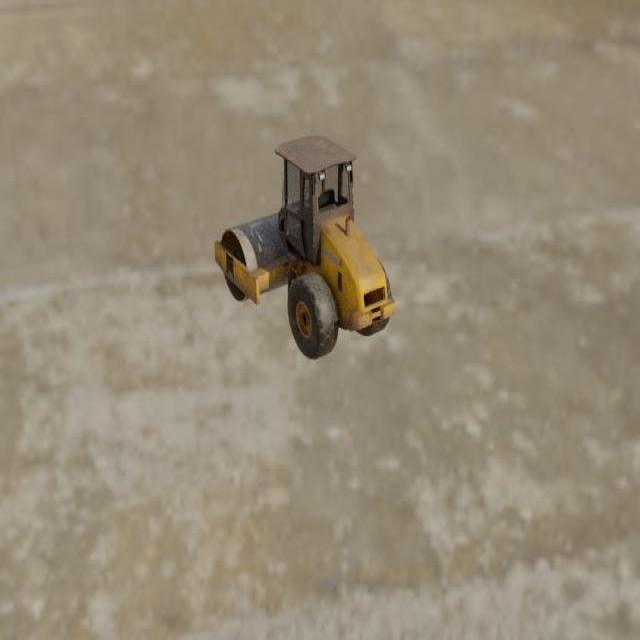Roller: (213, 133, 395, 360)
